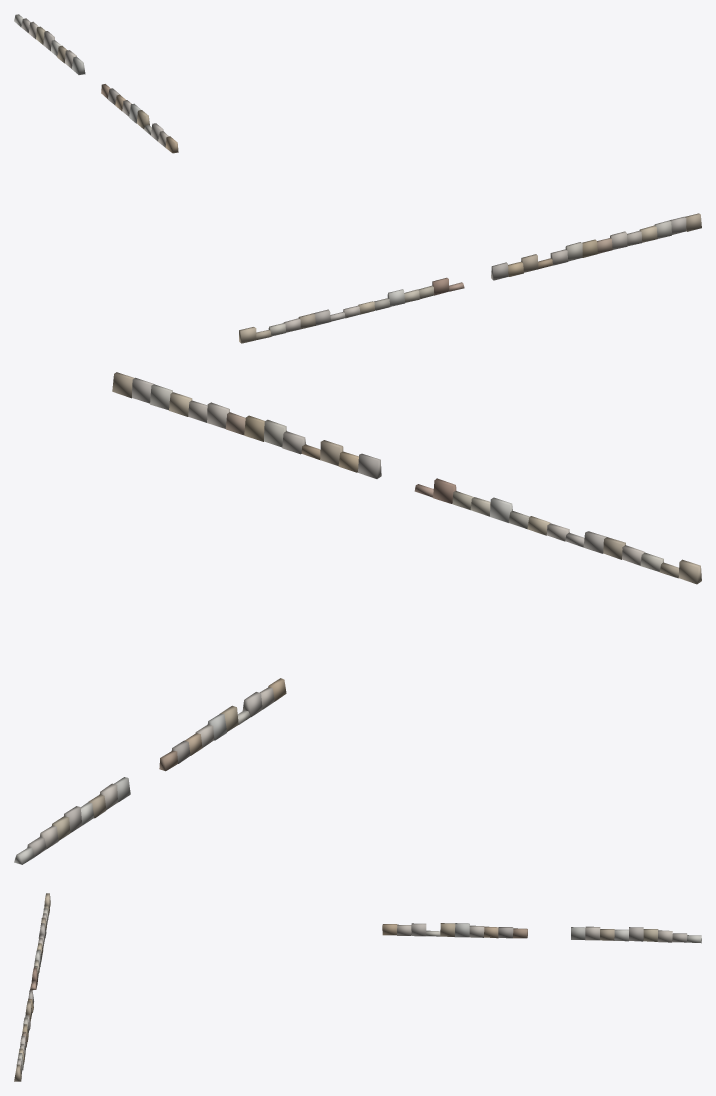
Rendered from farm_10_6_far.glb.
The picture shows the model from 3 angles, top to bottom: view 1: azimuth 30°, elevation 25°; view 2: azimuth 150°, elevation 25°; view 3: azimuth 270°, elevation 25°; orthographic projection. The views are drawn at different scales.
Parts seen in each view (by area): view 1: geometry_0; view 2: geometry_0; view 3: geometry_0.
Boxes of the visible parts, box(x1,y1,x2,y2) form: geometry_0: box(14, 14, 701, 343); geometry_0: box(14, 372, 701, 864); geometry_0: box(14, 893, 701, 1081).
Size of the model in its own units: 49.19 by 4.12 by 72.79.
